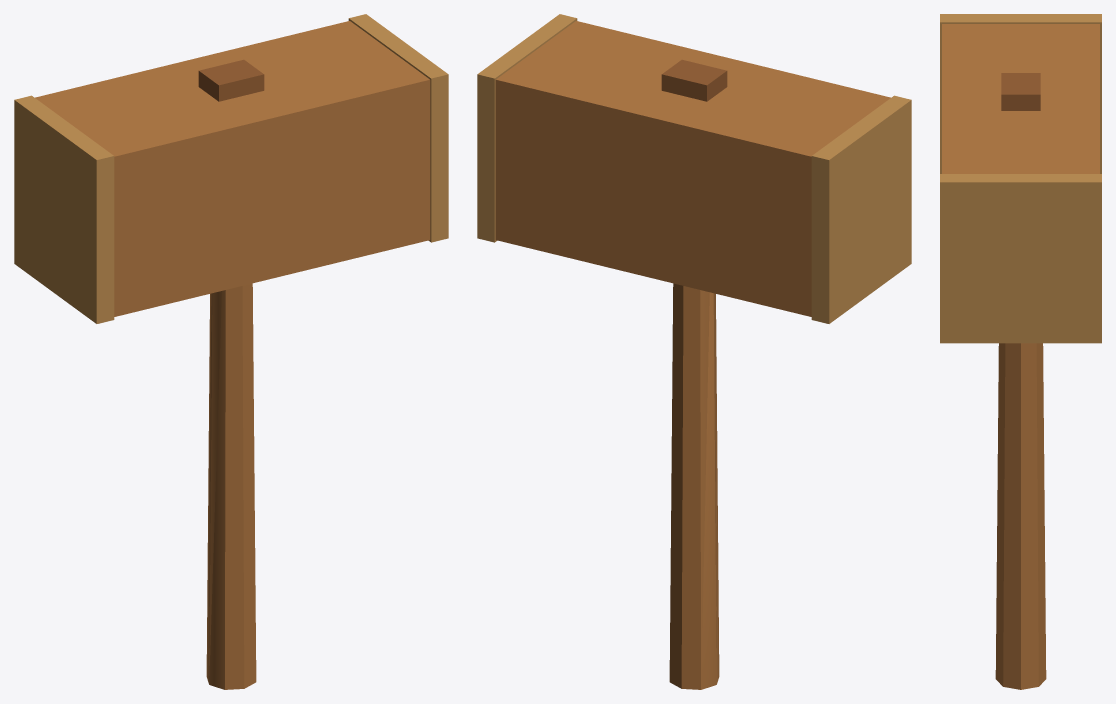
The model's file is 76_carpenter_mallet.fbx.
3 renders of one model, left to right at view 1: azimuth 30°, elevation 25°; view 2: azimuth 150°, elevation 25°; view 3: azimuth 270°, elevation 25°, orthographic.
Visible parts, largest first — view 1: 76_carpenter_mallet; view 2: 76_carpenter_mallet; view 3: 76_carpenter_mallet.
Part boxes in pixels (x1,y1,x2,y2): 76_carpenter_mallet: (14,14,448,689); 76_carpenter_mallet: (477,14,911,689); 76_carpenter_mallet: (940,14,1101,689).
Size of the model in its own units: 0.505 by 0.8325 by 0.205.
1 material, 1 textured.
